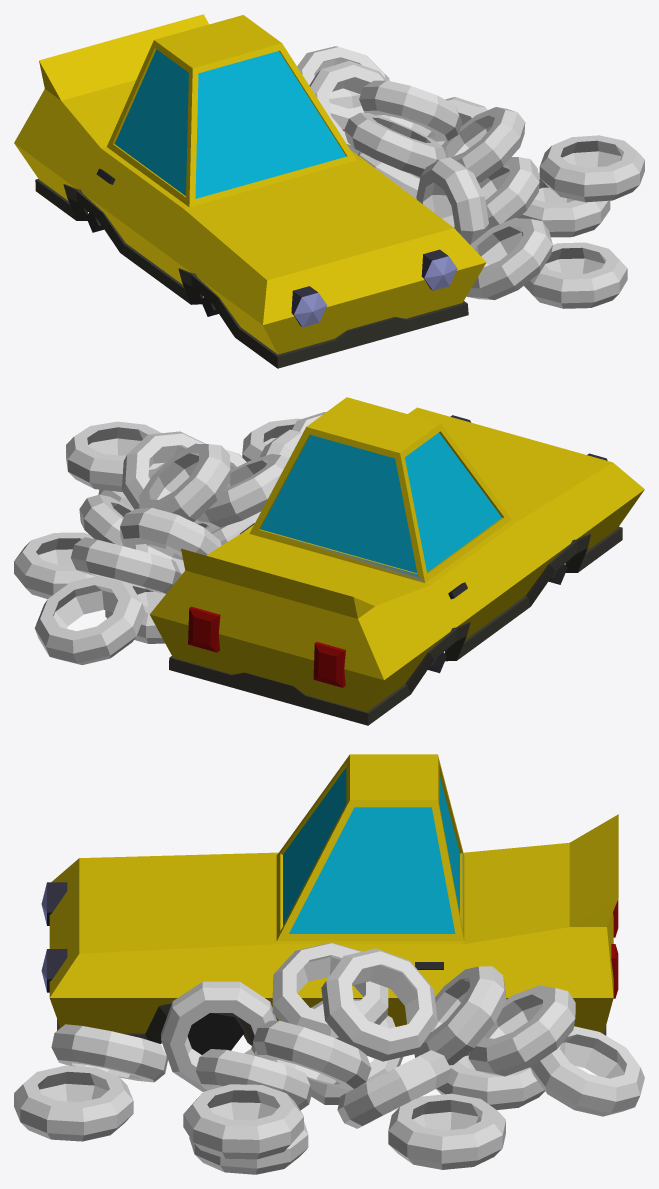
File: Car and wheels.fbx
The picture shows the model from 3 angles, top to bottom: view 1: azimuth 30°, elevation 25°; view 2: azimuth 150°, elevation 25°; view 3: azimuth 270°, elevation 25°; orthographic projection. The views are drawn at different scales.
Visible parts, largest first — view 1: Car, Wheels; view 2: Car, Wheels; view 3: Car, Wheels.
Boxes of the visible parts, bbox=[...] form: Car: bbox=[14, 14, 486, 368]; Wheels: bbox=[297, 46, 644, 308]; Car: bbox=[149, 397, 644, 725]; Wheels: bbox=[14, 412, 325, 664]; Car: bbox=[41, 754, 618, 1054]; Wheels: bbox=[14, 942, 644, 1174].
Bounding box in the file's own units: 414 × 170 × 431.
